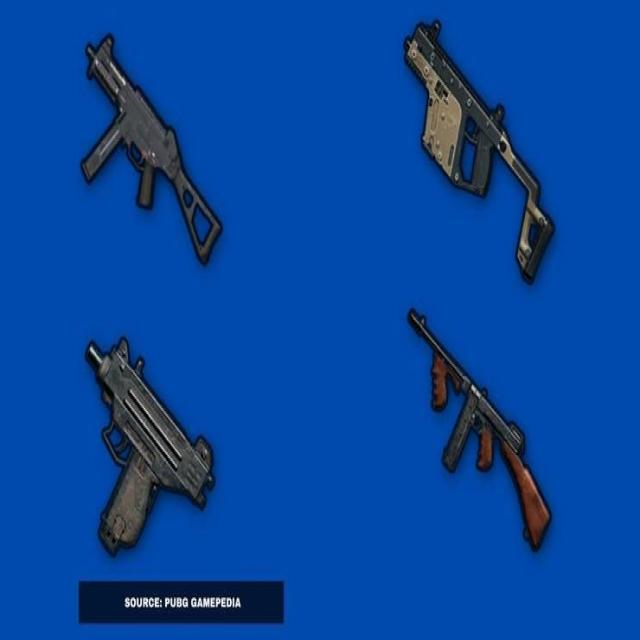Weapon: (405, 21, 554, 281), (408, 308, 550, 549), (81, 35, 221, 262), (86, 337, 213, 555)
